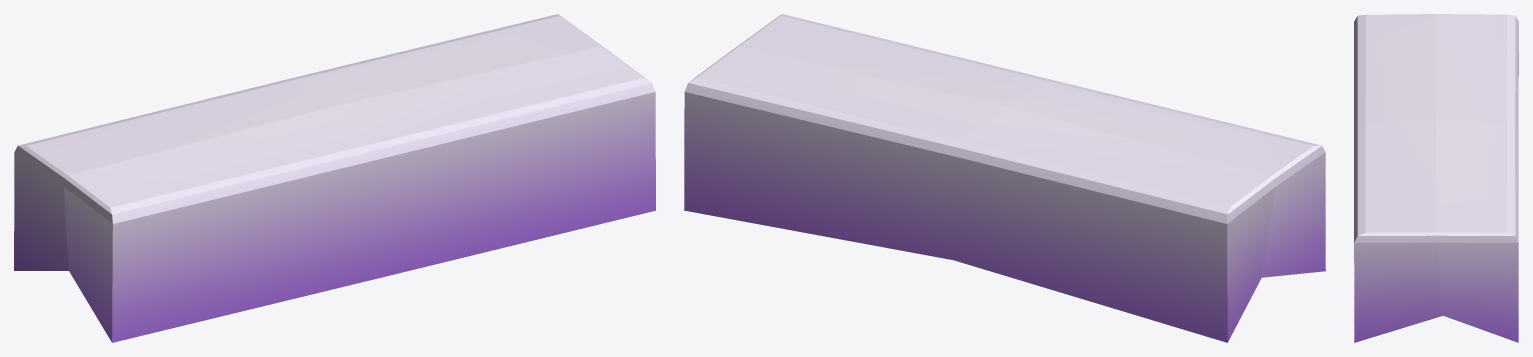
The model's file is SM_Tablecloth_Pink.fbx.
3 views of the same model, side by side, from view 1: azimuth 30°, elevation 25°; view 2: azimuth 150°, elevation 25°; view 3: azimuth 270°, elevation 25° (orthographic). The views are drawn at different scales.
Visible parts, largest first — view 1: Tablecloth_Red_mash; view 2: Tablecloth_Red_mash; view 3: Tablecloth_Red_mash.
Boxes of the visible parts, x1,y1,x2,y2 form: Tablecloth_Red_mash: (14, 14, 655, 342); Tablecloth_Red_mash: (684, 14, 1325, 342); Tablecloth_Red_mash: (1354, 14, 1518, 342).
Size of the model in its own units: 2.03 by 0.481 by 0.6358.
